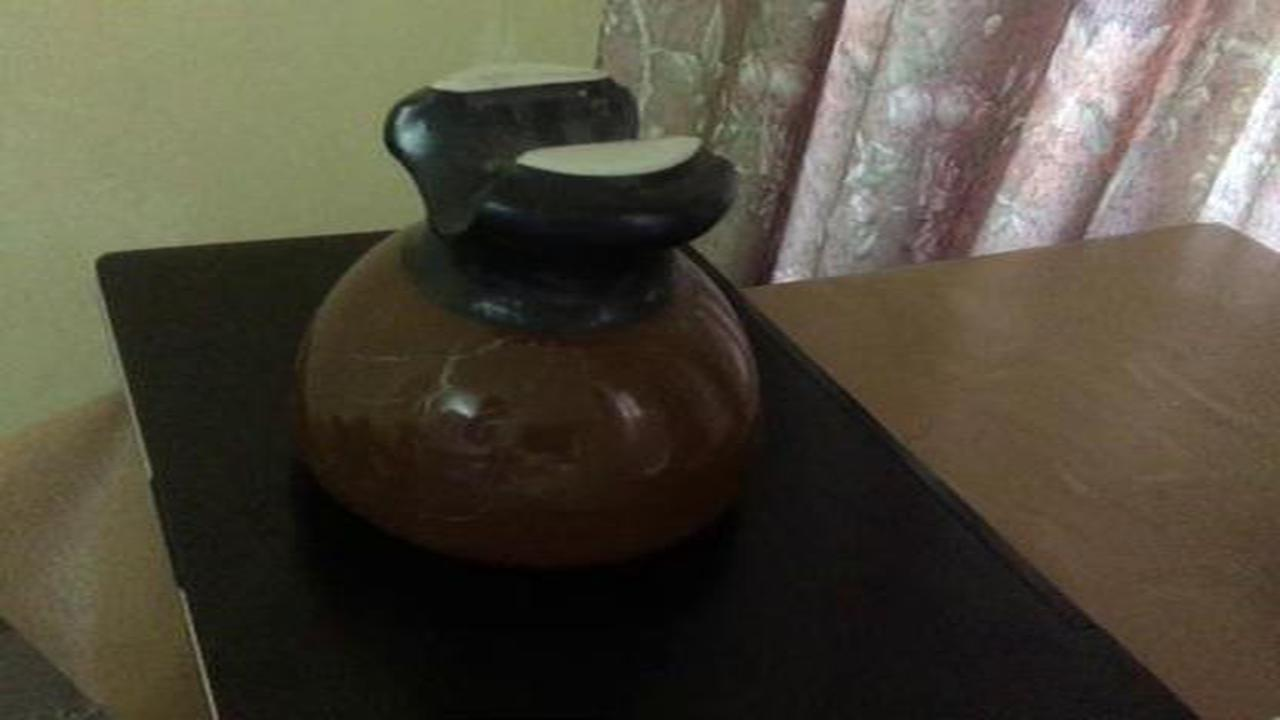insulator_pin: (283, 47, 788, 586)
